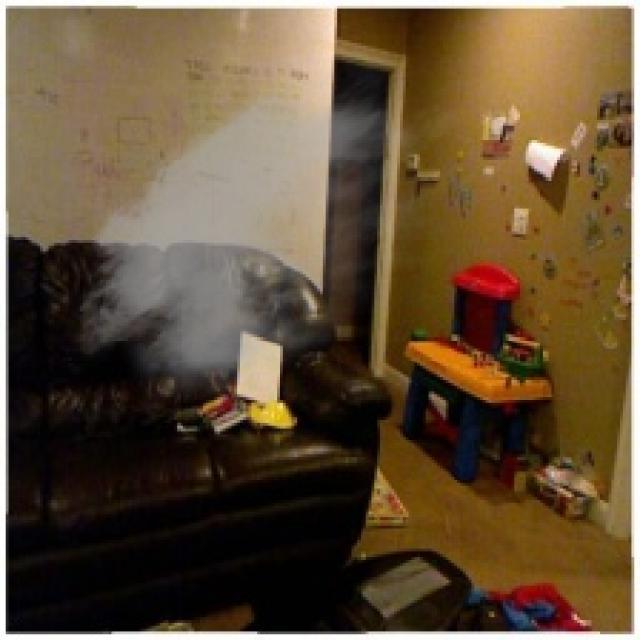Smoke: (62, 52, 474, 414)
